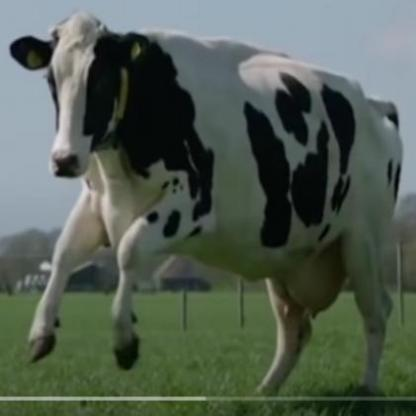cow: (10, 13, 403, 394)
